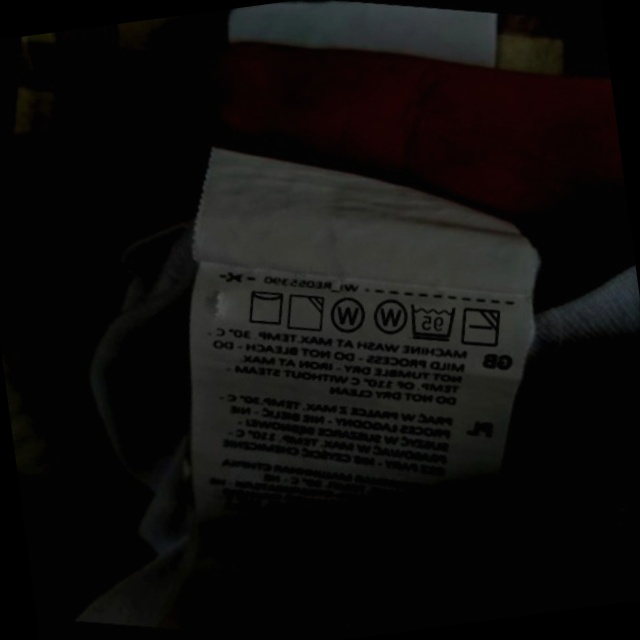95C: (401, 294, 463, 349)
dry_flat_in_shade: (454, 299, 509, 355)
line_dry: (239, 281, 292, 333)
shade_dry: (280, 286, 332, 339)
wet_clean: (364, 289, 414, 342), (322, 290, 372, 342)
